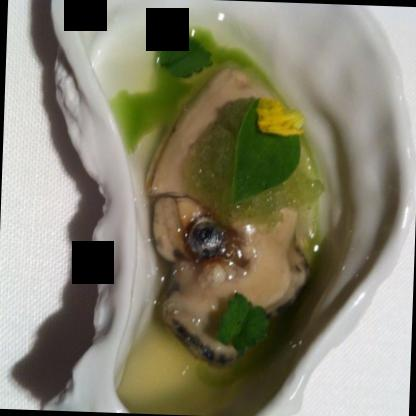oyster: (33, 0, 415, 416)
